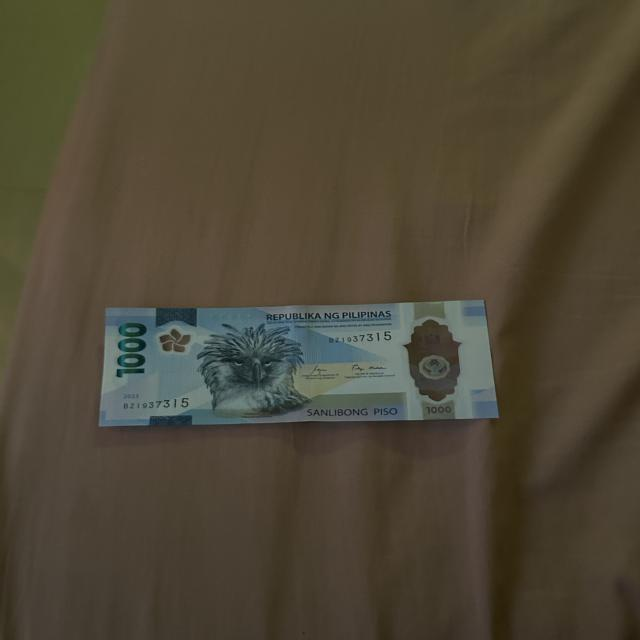clear_window: (407, 322, 466, 402)
eagle: (203, 333, 307, 418)
sampaguita: (157, 330, 197, 356)
